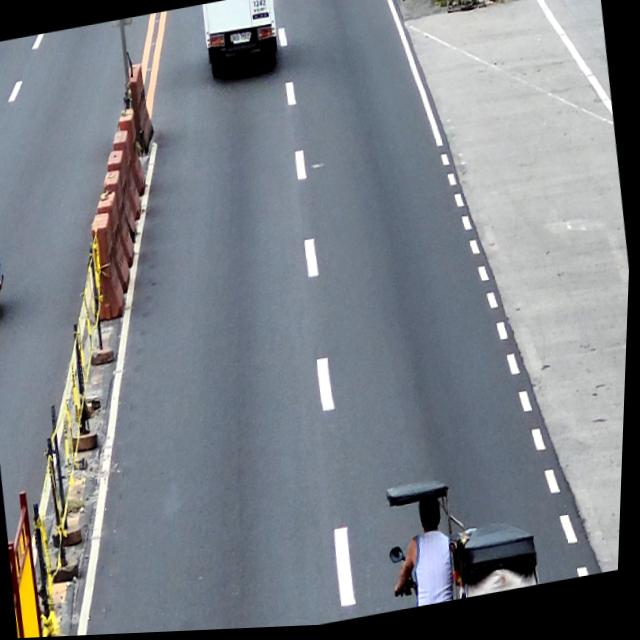Car: (199, 0, 284, 86)
License-Plate: (231, 34, 252, 46)
Motorcycle: (0, 200, 13, 326)
